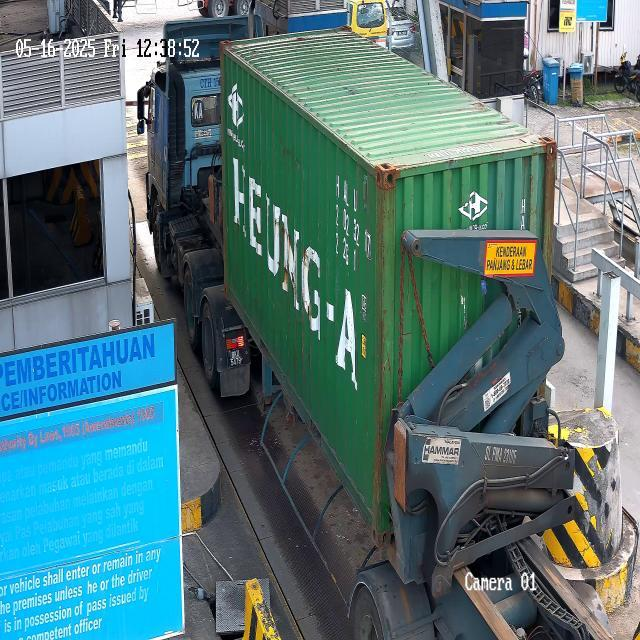ISO: (328, 230, 358, 277)
container_number: (334, 170, 377, 263)
